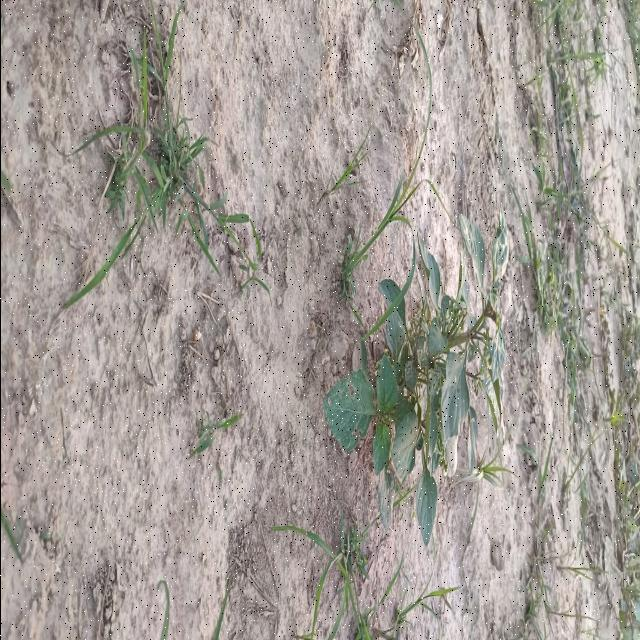plant: (325, 214, 508, 545)
